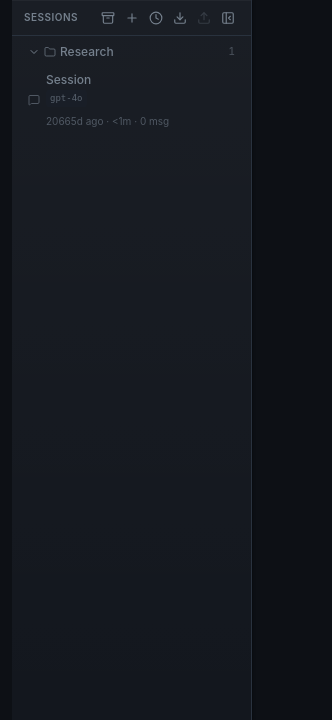
Test: Session groups — context menu › shows context menu options for group header on right-click
Right-click the text "Research": {"x": 87, "y": 52} [20,40,243,64]
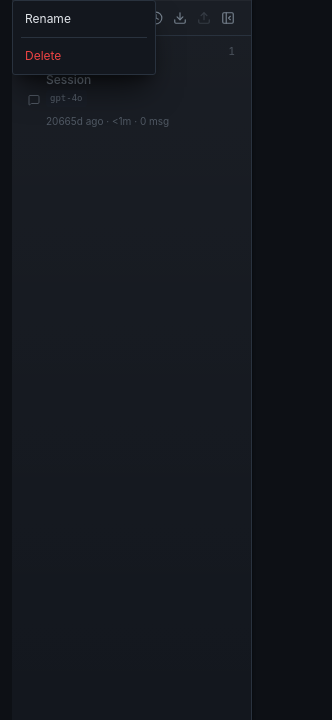
expect the button "Rename" is shown: met, box [13,5,155,33]
expect the button "Delete" is shown: met, box [13,42,155,70]
